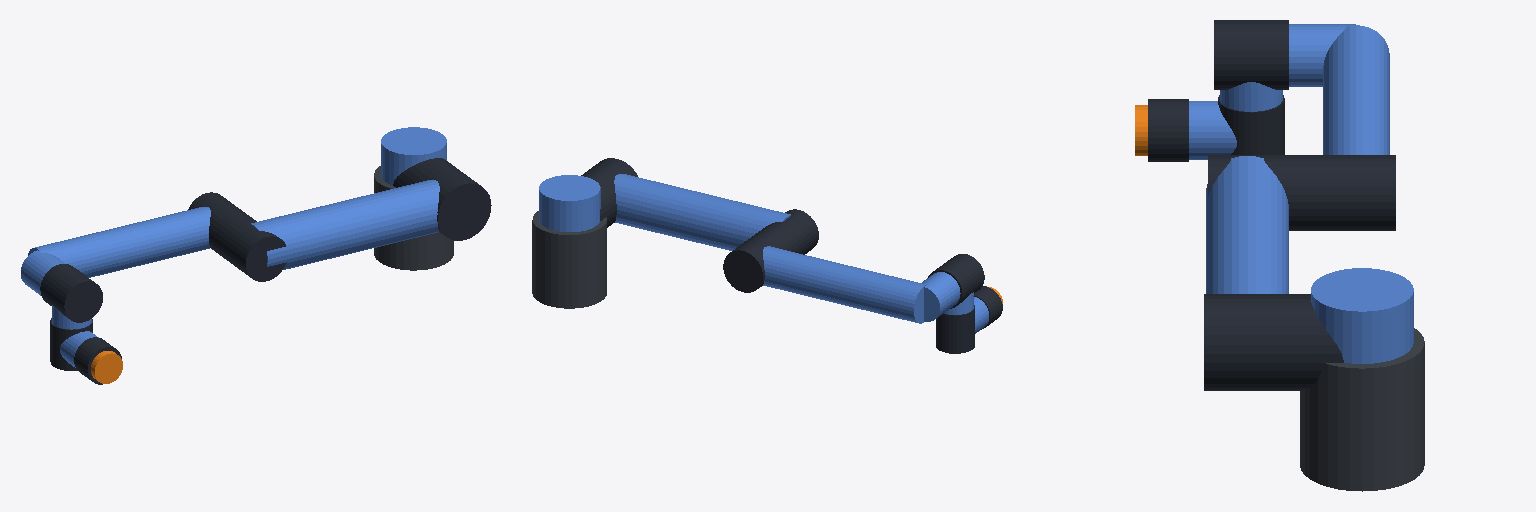
URDF robot description (ur5e_skeleton):
<?xml version="1.0"?>
<!--
  UR5e-shaped 6-DOF "skeleton" arm for in-app visualization/verification of
  grasp-search results (see CLAUDE.md AI 向けガード: this app never solves IK —
  it only DISPLAYS poses/joint angles it receives).

  KINEMATICS: the joint origins reproduce the Universal Robots UR5e link
  transforms (the published DH parameters d1=0.1625, a2=-0.425, a3=-0.3922,
  d4=0.1333, d5=0.0997, d6=0.0996), so the chain has the recognizable UR
  silhouette — the two offset arm links + the three-axis wrist cluster — rather
  than a coaxial totem pole. Every joint axis is the link's local +Z, exactly
  as in the official UR URDF; the rpy on shoulder_lift / wrist_2 / wrist_3 sets
  up the elbow and wrist planes.

  GEOMETRY: no external mesh assets. We are not shipping the UR visual meshes
  (they need STL/DAE files and a `packages` mapping); instead each link draws a
  primitive-<geometry> "bone + knuckle" skeleton — a cylinder around each joint
  axis plus a cylinder spanning to the next joint. URDFLoader builds
  THREE.CylinderGeometry directly from this, so the file stays self-contained
  and GitHub-Pages friendly. World frame follows ROS REP-103 (+X forward,
  +Y left, +Z up).

  Joint names match the UR convention (shoulder_pan/lift, elbow, wrist_1/2/3)
  so RobotStage._applyRestPose and any future grasp-contract joint payload key
  against the same names.
-->
<robot name="ur5e_skeleton">

  <material name="base_gray">
    <color rgba="0.28 0.30 0.33 1"/>
  </material>
  <material name="link_blue">
    <color rgba="0.38 0.56 0.86 1"/>
  </material>
  <material name="joint_dark">
    <color rgba="0.20 0.22 0.26 1"/>
  </material>
  <material name="flange_orange">
    <color rgba="0.95 0.55 0.15 1"/>
  </material>

  <!-- ── base_link: mounting can, up to the shoulder-pan joint (d1) ── -->
  <link name="base_link">
    <visual>
      <origin xyz="0 0 0.0815" rpy="0 0 0"/>
      <geometry><cylinder radius="0.075" length="0.163"/></geometry>
      <material name="base_gray"/>
    </visual>
  </link>

  <joint name="shoulder_pan_joint" type="revolute">
    <parent link="base_link"/>
    <child link="shoulder_link"/>
    <origin xyz="0 0 0.1625" rpy="0 0 0"/>
    <axis xyz="0 0 1"/>
    <limit lower="-6.2832" upper="6.2832" effort="150" velocity="3.14"/>
  </joint>

  <!-- shoulder_link: the vertical pan barrel; local +Z = pan axis -->
  <link name="shoulder_link">
    <visual>
      <origin xyz="0 0 0" rpy="0 0 0"/>
      <geometry><cylinder radius="0.062" length="0.14"/></geometry>
      <material name="link_blue"/>
    </visual>
  </link>

  <joint name="shoulder_lift_joint" type="revolute">
    <parent link="shoulder_link"/>
    <child link="upper_arm_link"/>
    <origin xyz="0 0 0" rpy="1.570796327 0 0"/>
    <axis xyz="0 0 1"/>
    <limit lower="-6.2832" upper="6.2832" effort="150" velocity="3.14"/>
  </joint>

  <!-- upper_arm_link: horizontal shoulder knuckle + bone spanning a2 along -X.
       The bone sits 0.138 out along the lift axis (+Z here), exactly where
       Universal Robots' own upperarm mesh sits (ur5e.urdf visual origin
       z=0.138) — the UR shoulder offset is split between shoulder and elbow,
       NOT drawn all at the wrist. The joint ORIGINS are untouched (DH is
       identical either way); only where the bones are drawn moves, so both
       render styles show the same silhouette (asserted in
       src/RobotVisualStyleAgreement.test.js). -->
  <link name="upper_arm_link">
    <visual>
      <origin xyz="0 0 0.085" rpy="0 0 0"/>
      <geometry><cylinder radius="0.058" length="0.21"/></geometry>
      <material name="joint_dark"/>
    </visual>
    <visual>
      <origin xyz="-0.2125 0 0.138" rpy="0 1.570796327 0"/>
      <geometry><cylinder radius="0.05" length="0.425"/></geometry>
      <material name="link_blue"/>
    </visual>
  </link>

  <joint name="elbow_joint" type="revolute">
    <parent link="upper_arm_link"/>
    <child link="forearm_link"/>
    <origin xyz="-0.425 0 0" rpy="0 0 0"/>
    <axis xyz="0 0 1"/>
    <limit lower="-3.1416" upper="3.1416" effort="150" velocity="3.14"/>
  </joint>

  <!-- forearm_link: elbow knuckle spanning from the upper arm's plane
       (z=0.138) back to the forearm's (z=0.007), bone spanning a3 along -X at
       z=0.007 (UR forearm mesh visual origin), then the short rise to the d4
       wrist plane (z=0.1333) at wrist_1 -->
  <link name="forearm_link">
    <visual>
      <origin xyz="0 0 0.0725" rpy="0 0 0"/>
      <geometry><cylinder radius="0.046" length="0.225"/></geometry>
      <material name="joint_dark"/>
    </visual>
    <visual>
      <origin xyz="-0.1961 0 0.007" rpy="0 1.570796327 0"/>
      <geometry><cylinder radius="0.04" length="0.3922"/></geometry>
      <material name="link_blue"/>
    </visual>
    <visual>
      <origin xyz="-0.3922 0 0.07015" rpy="0 0 0"/>
      <geometry><cylinder radius="0.038" length="0.1263"/></geometry>
      <material name="link_blue"/>
    </visual>
  </link>

  <joint name="wrist_1_joint" type="revolute">
    <parent link="forearm_link"/>
    <child link="wrist_1_link"/>
    <origin xyz="-0.3922 0 0.1333" rpy="0 0 0"/>
    <axis xyz="0 0 1"/>
    <limit lower="-6.2832" upper="6.2832" effort="28" velocity="6.28"/>
  </joint>

  <!-- wrist_1_link: knuckle + bone spanning d5 along -Y to wrist_2 -->
  <link name="wrist_1_link">
    <visual>
      <origin xyz="0 0 0" rpy="0 0 0"/>
      <geometry><cylinder radius="0.042" length="0.09"/></geometry>
      <material name="joint_dark"/>
    </visual>
    <visual>
      <origin xyz="0 -0.04985 0" rpy="1.570796327 0 0"/>
      <geometry><cylinder radius="0.038" length="0.0997"/></geometry>
      <material name="link_blue"/>
    </visual>
  </link>

  <joint name="wrist_2_joint" type="revolute">
    <parent link="wrist_1_link"/>
    <child link="wrist_2_link"/>
    <origin xyz="0 -0.0997 0" rpy="1.570796327 0 0"/>
    <axis xyz="0 0 1"/>
    <limit lower="-6.2832" upper="6.2832" effort="28" velocity="6.28"/>
  </joint>

  <!-- wrist_2_link: knuckle + bone spanning d6 along +Y to wrist_3 -->
  <link name="wrist_2_link">
    <visual>
      <origin xyz="0 0 0" rpy="0 0 0"/>
      <geometry><cylinder radius="0.04" length="0.085"/></geometry>
      <material name="joint_dark"/>
    </visual>
    <visual>
      <origin xyz="0 0.0498 0" rpy="1.570796327 0 0"/>
      <geometry><cylinder radius="0.036" length="0.0996"/></geometry>
      <material name="link_blue"/>
    </visual>
  </link>

  <joint name="wrist_3_joint" type="revolute">
    <parent link="wrist_2_link"/>
    <child link="wrist_3_link"/>
    <origin xyz="0 0.0996 0" rpy="1.570796327 3.141592654 3.141592654"/>
    <axis xyz="0 0 1"/>
    <limit lower="-6.2832" upper="6.2832" effort="28" velocity="6.28"/>
  </joint>

  <!-- wrist_3_link: the tool flange (tool0). +Z points out of the flange face. -->
  <link name="wrist_3_link">
    <visual>
      <origin xyz="0 0 0" rpy="0 0 0"/>
      <geometry><cylinder radius="0.038" length="0.05"/></geometry>
      <material name="joint_dark"/>
    </visual>
    <visual>
      <origin xyz="0 0 0.03" rpy="0 0 0"/>
      <geometry><cylinder radius="0.031" length="0.02"/></geometry>
      <material name="flange_orange"/>
    </visual>
  </link>

</robot>

--- Render facts (derived) ---
Views: 3 orthographic renders of the robot side by side, from view 1: azimuth 30°, elevation 25°; view 2: azimuth 150°, elevation 25°; view 3: azimuth 270°, elevation 25°.
Robot: ur5e_skeleton — 7 links, 6 joints (6 revolute); root link base_link; default pose: every joint at zero.
Links seen in each view (by area): view 1: upper_arm_link, forearm_link, wrist_1_link, shoulder_link, base_link, wrist_3_link, wrist_2_link; view 2: forearm_link, upper_arm_link, base_link, shoulder_link, wrist_2_link, wrist_1_link, wrist_3_link; view 3: upper_arm_link, forearm_link, base_link, shoulder_link, wrist_1_link, wrist_2_link, wrist_3_link.
Boxes of the visible links, x1,y1,x2,y2 form: upper_arm_link: (250, 158, 491, 269); forearm_link: (21, 192, 286, 295); wrist_1_link: (40, 264, 102, 329); shoulder_link: (381, 127, 446, 184); base_link: (374, 166, 453, 270); wrist_3_link: (74, 337, 122, 384); wrist_2_link: (50, 318, 98, 370); forearm_link: (723, 209, 960, 323); upper_arm_link: (581, 158, 790, 250); base_link: (532, 211, 606, 308); shoulder_link: (539, 175, 600, 231); wrist_2_link: (936, 297, 988, 353); wrist_1_link: (928, 254, 984, 314); wrist_3_link: (974, 286, 1002, 329); upper_arm_link: (1204, 156, 1343, 390); forearm_link: (1208, 24, 1395, 230); base_link: (1300, 328, 1424, 491); shoulder_link: (1311, 268, 1413, 363); wrist_1_link: (1214, 20, 1288, 111); wrist_2_link: (1189, 95, 1284, 159); wrist_3_link: (1135, 99, 1188, 161).
Size in the robot's own frame: 0.9342 by 0.3479 by 0.2325 metres.
Geometry: primitives only (box / cylinder / sphere), no mesh files.
